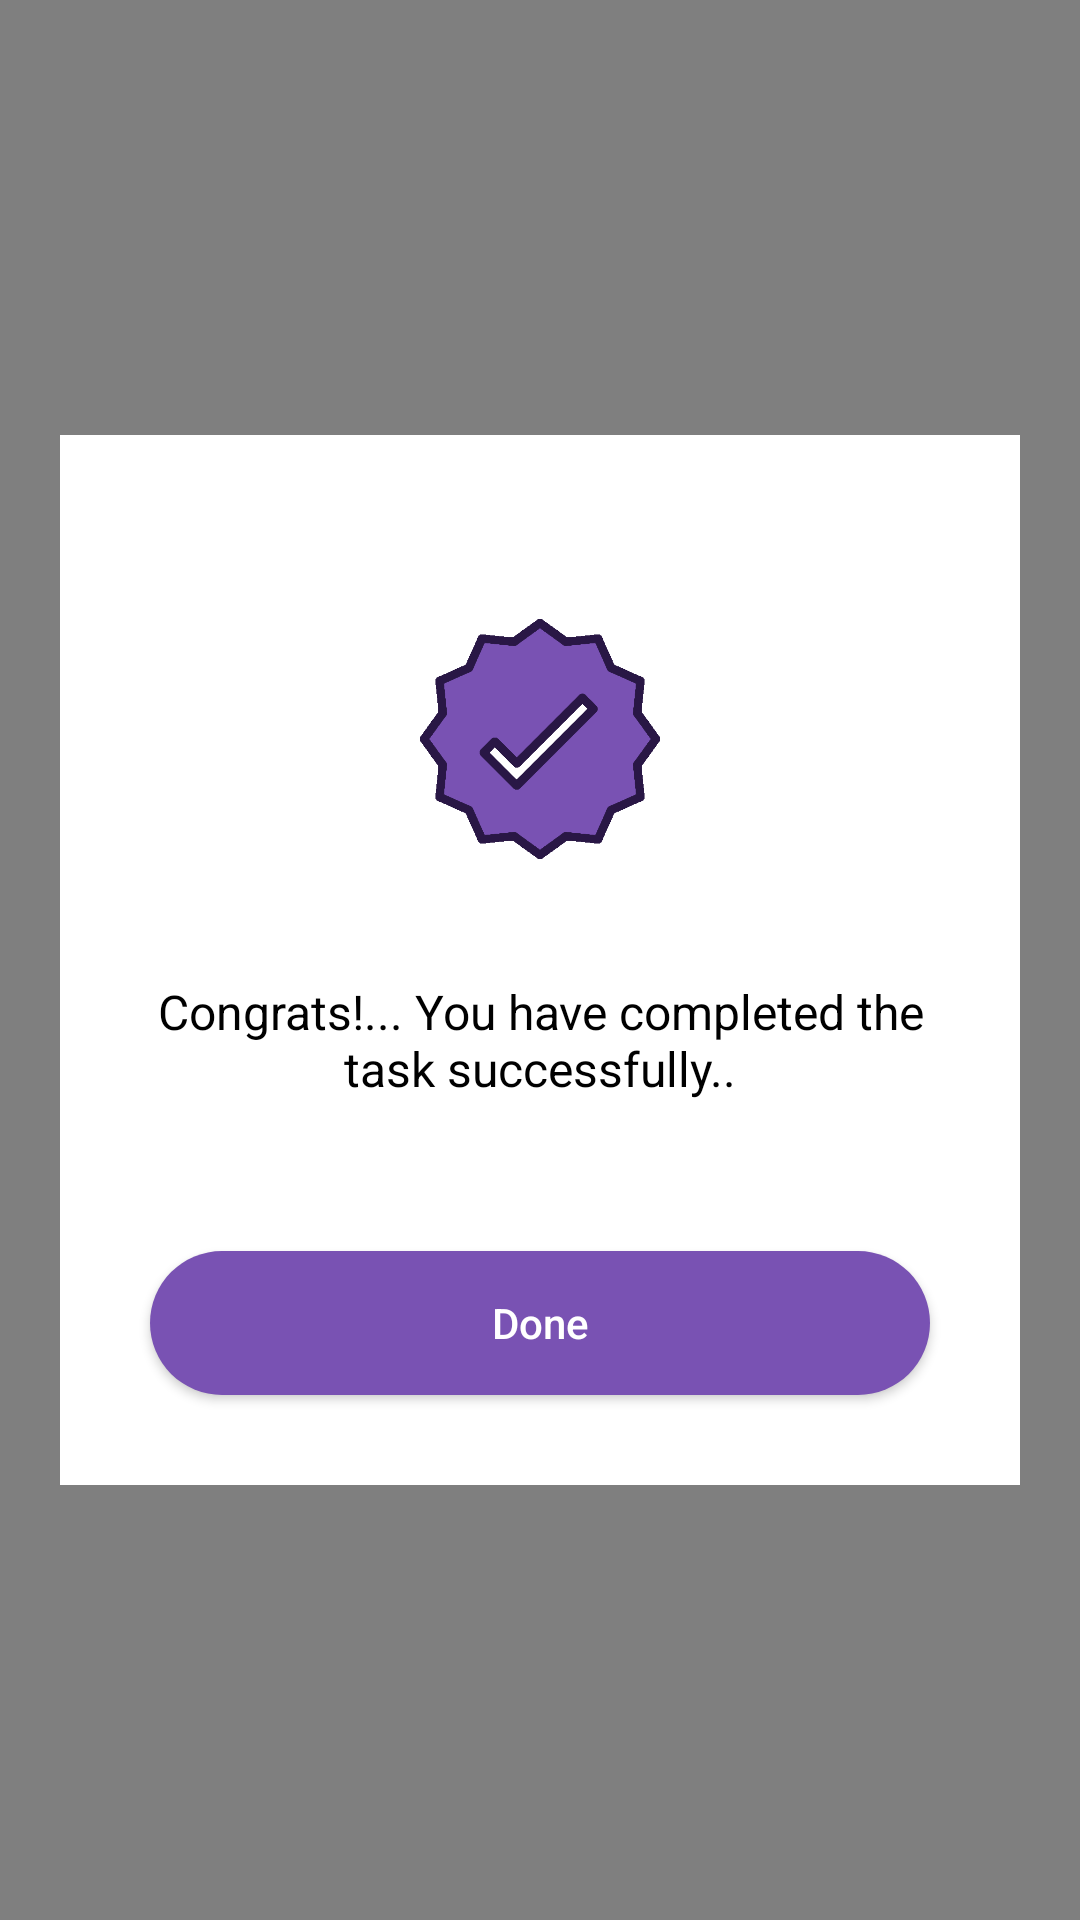

Icon click points for this 1080x1920 phone screenshot, format (x=x, y=y):
correctimg: (x=540, y=739)
